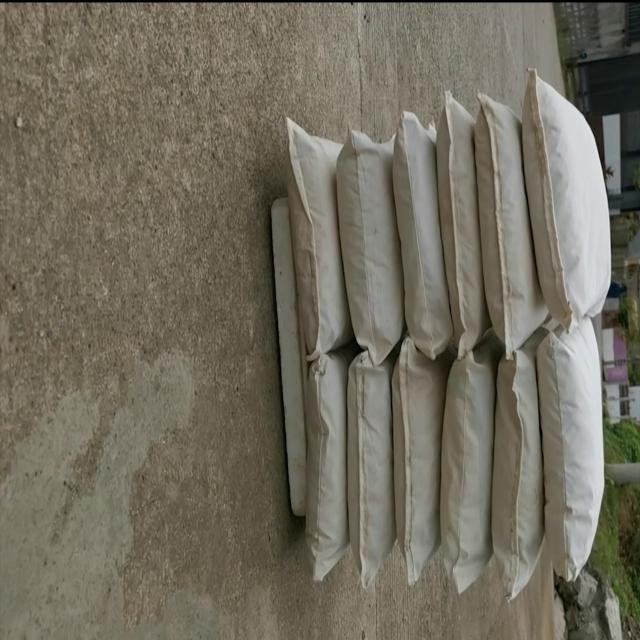Sack: (519, 73, 617, 330), (473, 90, 547, 363), (534, 327, 606, 591), (388, 104, 460, 366), (284, 106, 353, 357), (439, 343, 505, 605), (486, 345, 552, 602), (431, 101, 492, 374), (389, 334, 453, 588), (339, 128, 400, 365), (294, 356, 354, 582), (345, 348, 399, 583)
